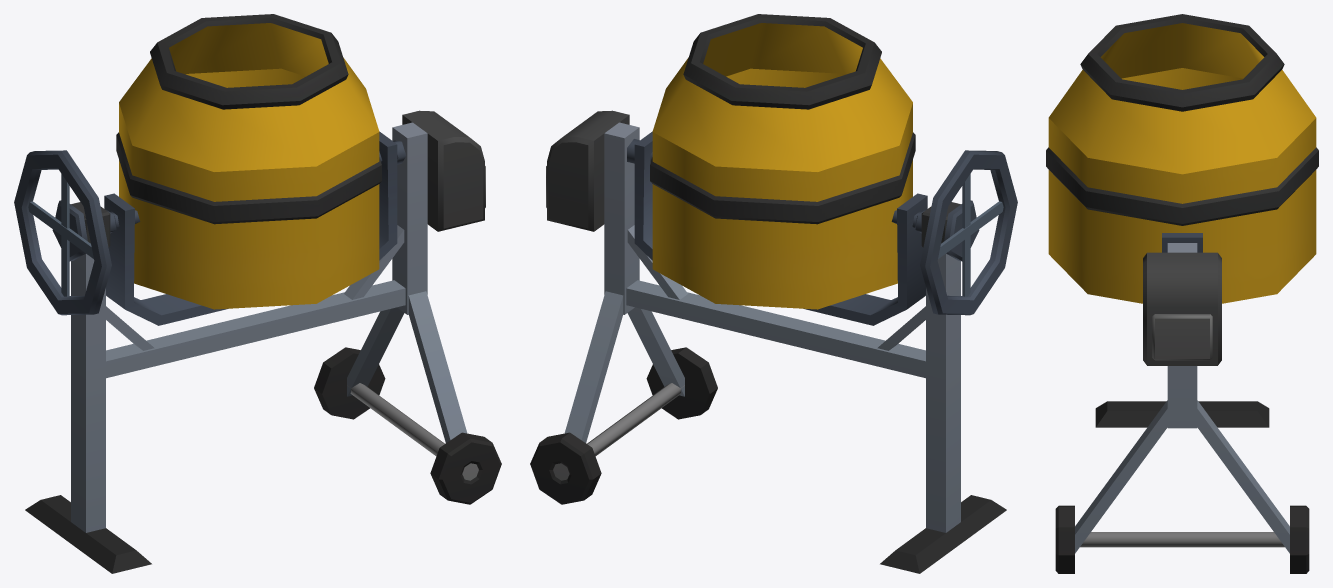
The model's file is CementMixer_B.glb.
The picture shows the model from 3 angles, left to right: view 1: azimuth 30°, elevation 25°; view 2: azimuth 150°, elevation 25°; view 3: azimuth 270°, elevation 25°; orthographic projection.
Visible parts, largest first — view 1: Top2, CementMixer; view 2: Top2, CementMixer; view 3: Top2, CementMixer.
Boxes of the visible parts, x1=… form: Top2: x1=14, y1=14, x2=406, y2=325; CementMixer: x1=25, y1=110, x2=501, y2=573; Top2: x1=627, y1=14, x2=1017, y2=325; CementMixer: x1=530, y1=110, x2=1006, y2=573; Top2: x1=1046, y1=14, x2=1318, y2=303; CementMixer: x1=1055, y1=243, x2=1309, y2=573.
Bounding box in the file's own units: 0.6675 × 0.6854 × 0.3837.
Materials: 2 (2 with a texture image).
